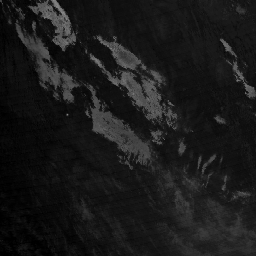Target: (64, 112, 69, 118)
